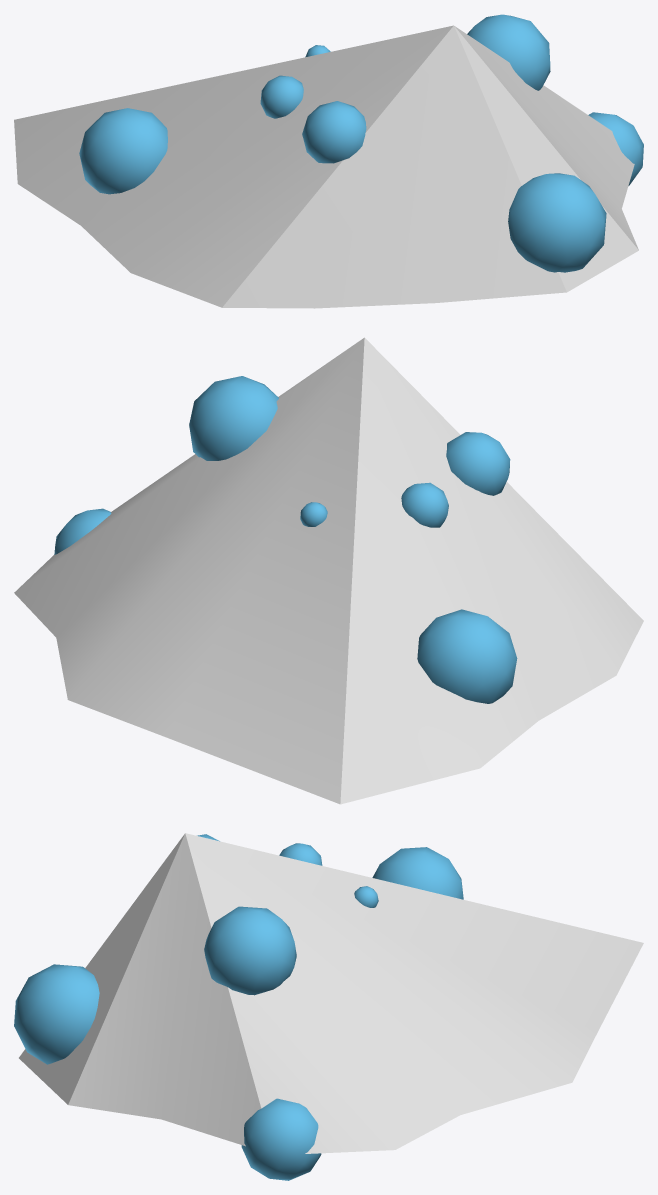
File: silicon.fbx
3 renders of one model, top to bottom at view 1: azimuth 30°, elevation 25°; view 2: azimuth 150°, elevation 25°; view 3: azimuth 270°, elevation 25°, orthographic. The views are drawn at different scales.
Visible parts, largest first — view 1: Cone, Cone|Icosphere|Dupli|1, Cone|Icosphere|Dupli|4, Cone|Icosphere|Dupli|, Cone|Icosphere|Dupli|2, Cone|Icosphere|Dupli|5, Cone|Icosphere|Dupli|8; view 2: Cone, Cone|Icosphere|Dupli|4, Cone|Icosphere|Dupli|, Cone|Icosphere|Dupli|2, Cone|Icosphere|Dupli|5, Cone|Icosphere|Dupli|8; view 3: Cone, Cone|Icosphere|Dupli|1, Cone|Icosphere|Dupli|, Cone|Icosphere|Dupli|8, Cone|Icosphere|Dupli|4, Cone|Icosphere|Dupli|5.
Part boxes in pixels (left/top/right/bottom): Cone: left=14, top=25, right=638, bottom=308; Cone|Icosphere|Dupli|1: left=508, top=173, right=606, bottom=272; Cone|Icosphere|Dupli|4: left=79, top=108, right=167, bottom=194; Cone|Icosphere|Dupli|: left=467, top=14, right=550, bottom=90; Cone|Icosphere|Dupli|2: left=302, top=101, right=366, bottom=163; Cone|Icosphere|Dupli|5: left=260, top=75, right=303, bottom=118; Cone|Icosphere|Dupli|8: left=588, top=112, right=643, bottom=185; Cone: left=14, top=337, right=643, bottom=804; Cone|Icosphere|Dupli|4: left=417, top=609, right=517, bottom=703; Cone|Icosphere|Dupli|: left=189, top=376, right=278, bottom=460; Cone|Icosphere|Dupli|2: left=446, top=432, right=510, bottom=495; Cone|Icosphere|Dupli|5: left=401, top=482, right=448, bottom=527; Cone|Icosphere|Dupli|8: left=54, top=508, right=111, bottom=554; Cone: left=19, top=833, right=643, bottom=1153; Cone|Icosphere|Dupli|1: left=14, top=964, right=99, bottom=1064; Cone|Icosphere|Dupli|: left=204, top=906, right=296, bottom=995; Cone|Icosphere|Dupli|8: left=241, top=1098, right=321, bottom=1180; Cone|Icosphere|Dupli|4: left=372, top=847, right=463, bottom=899; Cone|Icosphere|Dupli|5: left=279, top=843, right=322, bottom=865.
Bounding box in the file's own units: 39.99 × 19.4 × 43.04.
